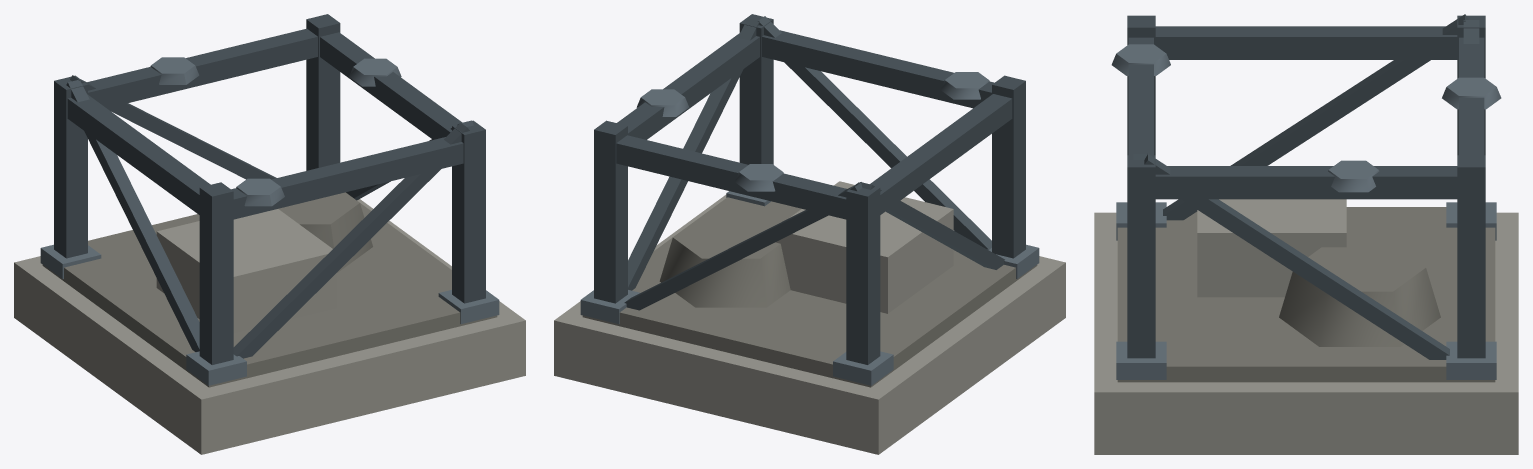
File: reef-frame.glb
3 renders of one model, left to right at view 1: azimuth 30°, elevation 25°; view 2: azimuth 150°, elevation 25°; view 3: azimuth 270°, elevation 25°, orthographic. The views are drawn at different scales.
Visible parts, largest first — view 1: reef-frame; view 2: reef-frame; view 3: reef-frame.
Boxes of the visible parts, box(x1,y1,x2,y2) form: reef-frame: box(14, 14, 525, 454); reef-frame: box(554, 14, 1065, 454); reef-frame: box(1094, 14, 1518, 454).
Size of the model in its own units: 2.7 by 1.95 by 2.7.
